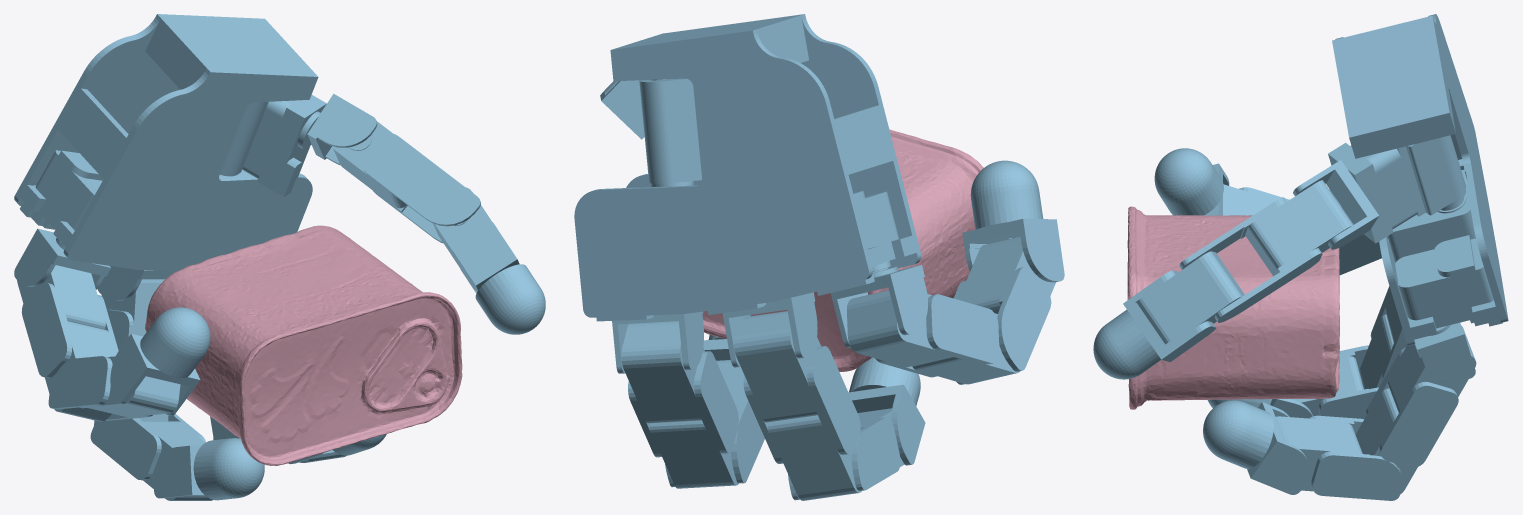
3 views of the same model, side by side, from view 1: azimuth 30°, elevation 25°; view 2: azimuth 150°, elevation 25°; view 3: azimuth 270°, elevation 25° (orthographic). The views are drawn at different scales.
Parts seen in each view (by area): view 1: world, potted_meat_can.stl; view 2: world, potted_meat_can.stl; view 3: world, potted_meat_can.stl.
Part boxes in pixels (x1,y1,x2,y2): world: (14, 14, 545, 500); potted_meat_can.stl: (145, 225, 462, 465); world: (574, 14, 1064, 500); potted_meat_can.stl: (702, 129, 983, 371); world: (1093, 14, 1508, 500); potted_meat_can.stl: (1127, 206, 1339, 409).
Bounding box in the file's own units: 0.1871 × 0.1913 × 0.1632.
